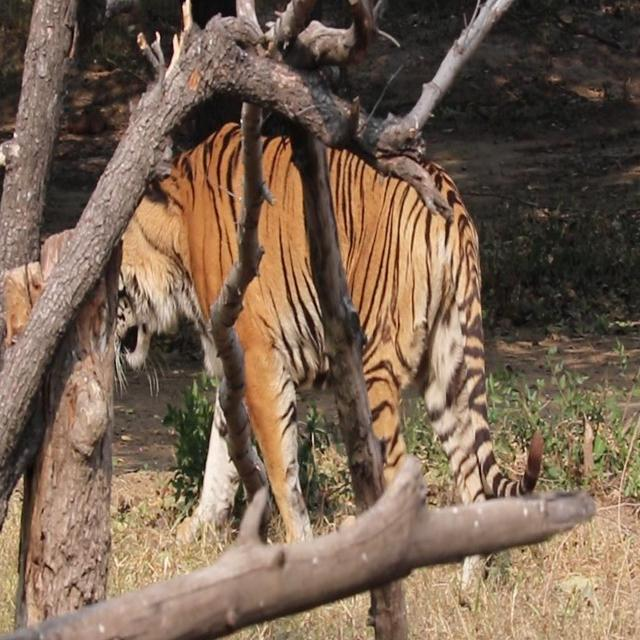tiger: (0, 118, 551, 601)
